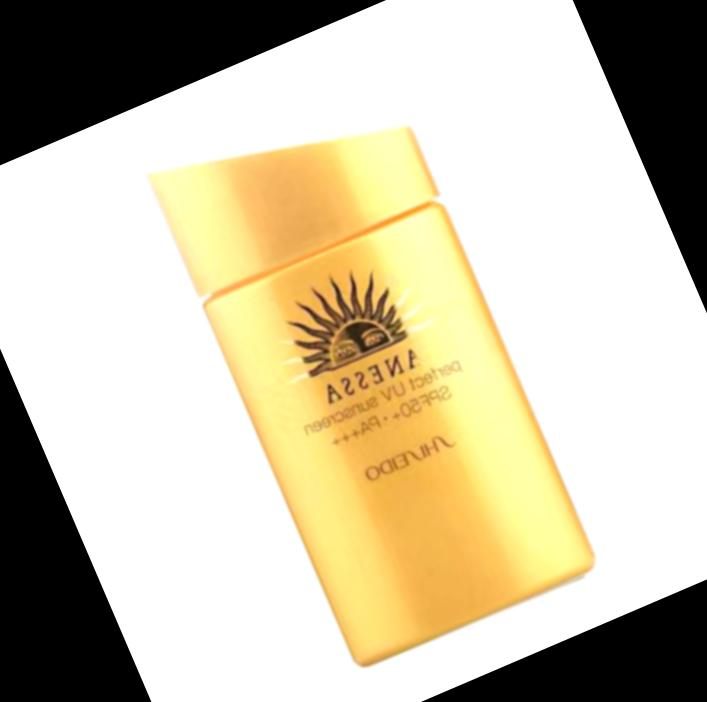cosmetic: (138, 56, 597, 669)
